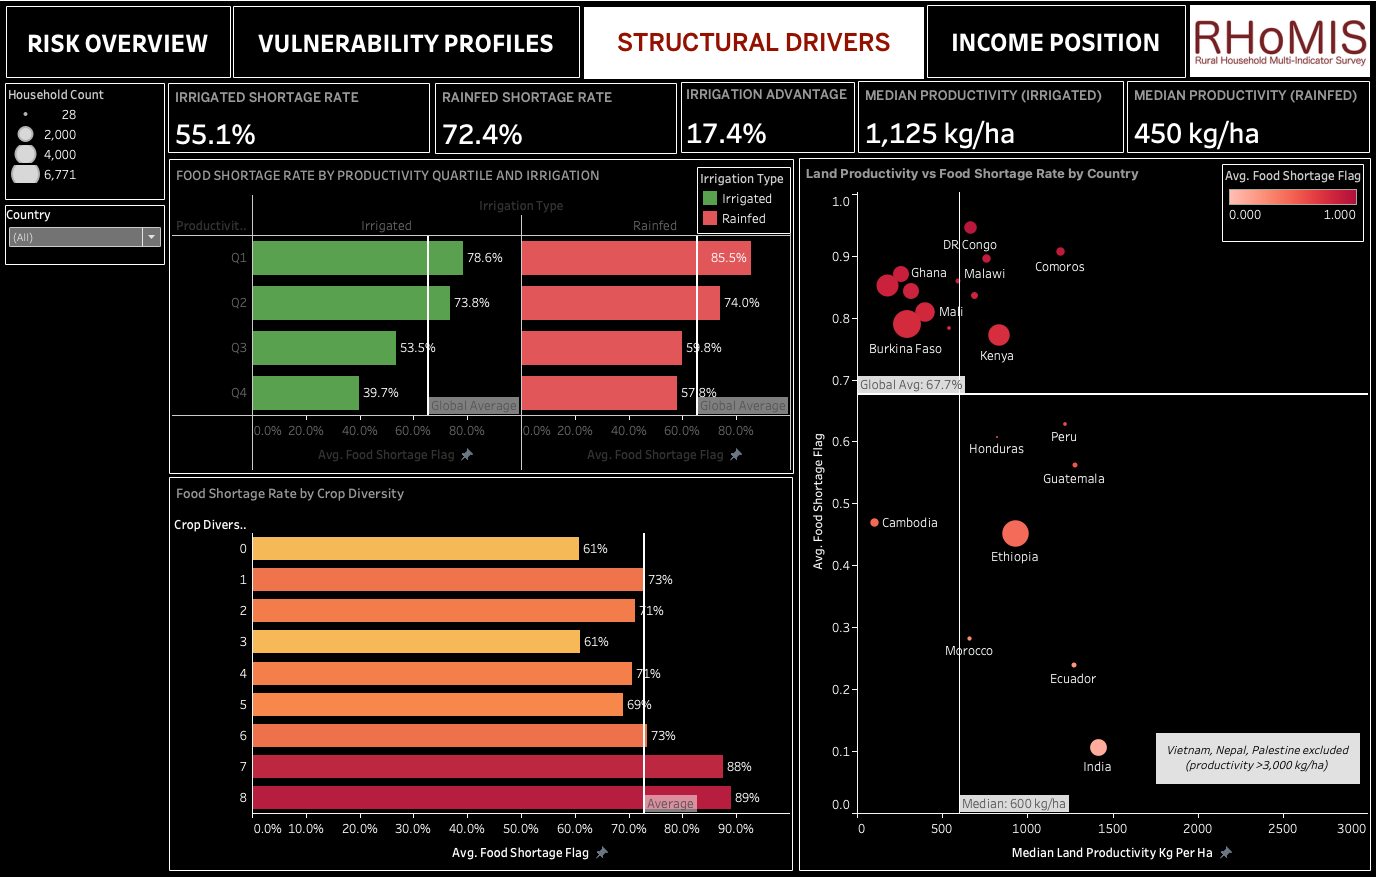

Layout of this report page (visuals, bound fields, positions):
{"tool":"tableau","page":{"name":"STRUCTURAL DRIVERS","canvas":[1400,900],"ordinal":2},"visuals":[{"type":"blank","box":[8,8,1384,884]},{"type":"dashboard-object","box":[939,16,259,73]},{"type":"image","param":"Image/rhomis-logo.png","box":[1202,16,182,72]},{"type":"dashboard-object","box":[18,17,225,72]},{"type":"dashboard-object","box":[245,17,347,72]},{"type":"text","box":[595,17,340,72]},{"type":"worksheet","title":"KPI3-MEDIAN PRODUCTIVITY (IRRIGATED)","mark":"Automatic","box":[870,92,266,72]},{"type":"worksheet","title":"KPI3-MEDIAN PRODUCTIVITY (RAINFED)","mark":"Automatic","box":[1139,92,243,72]},{"type":"worksheet","title":"KPI3-IRRIGATION ADVANTAGE","mark":"Automatic","box":[693,93,174,71]},{"type":"legend","title":"Land Productivity vs Food Shortage Rate by Country ","param":"[federated.18g2uha1kfgs62108f3sf1ksln33].[usr:Calculation_3682809765310495:qk]","box":[17,94,160,117]},{"type":"worksheet","title":"KPI3-IRRIGATED SHORTAGE RATE","mark":"Automatic","box":[180,94,262,70]},{"type":"worksheet","title":"KPI3-RAINFED SHORTAGE RATE","mark":"Automatic","box":[447,94,242,71]},{"type":"worksheet","title":"Land Productivity vs Food Shortage Rate by Country ","mark":"Circle","rows":["food_shortage_flag"],"cols":["land_productivity_kg_per_ha"],"box":[811,169,570,713]},{"type":"worksheet","title":"FOOD SHORTAGE RATE BY PRODUCTIVITY QUARTILE AND IRRIGATION","mark":"Automatic","rows":["productivity_quartile"],"cols":["Calculation_3682809762775070","food_shortage_flag"],"box":[181,170,625,315]},{"type":"legend","title":"Land Productivity vs Food Shortage Rate by Country ","param":"[federated.18g2uha1kfgs62108f3sf1ksln33].[avg:food_shortage_flag:qk]","box":[1234,175,142,78]},{"type":"legend","title":"FOOD SHORTAGE RATE BY PRODUCTIVITY QUARTILE AND IRRIGATION","param":"[federated.18g2uha1kfgs62108f3sf1ksln33].[none:Calculation_3682809762775070:nk]","box":[698,178,105,65]},{"type":"filter","title":"KPI3-IRRIGATED SHORTAGE RATE","param":"[federated.18g2uha1kfgs62108f3sf1ksln33].[none:country:nk]","box":[17,216,160,60]},{"type":"worksheet","title":"Food Shortage Rate by Crop Diversity","mark":"Bar","rows":["crop_diversity_count"],"cols":["food_shortage_flag"],"box":[181,488,624,394]}]}

Visuals, with their boxes in screenshot pixels (x1, y1, x2, y2), scaled from the page's 1400x900 canvas onto the 1376x878 screenshot:
blank: crop(8, 8, 1368, 870)
dashboard-object: crop(923, 16, 1177, 87)
image: crop(1181, 16, 1360, 86)
dashboard-object: crop(18, 17, 239, 87)
dashboard-object: crop(241, 17, 582, 87)
text: crop(585, 17, 919, 87)
"KPI3-MEDIAN PRODUCTIVITY (IRRIGATED)" worksheet: crop(855, 90, 1117, 160)
"KPI3-MEDIAN PRODUCTIVITY (RAINFED)" worksheet: crop(1119, 90, 1358, 160)
"KPI3-IRRIGATION ADVANTAGE" worksheet: crop(681, 91, 852, 160)
"Land Productivity vs Food Shortage Rate by Country " legend: crop(17, 92, 174, 206)
"KPI3-IRRIGATED SHORTAGE RATE" worksheet: crop(177, 92, 434, 160)
"KPI3-RAINFED SHORTAGE RATE" worksheet: crop(439, 92, 677, 161)
"Land Productivity vs Food Shortage Rate by Country " worksheet (Circle marks): crop(797, 165, 1357, 860)
"FOOD SHORTAGE RATE BY PRODUCTIVITY QUARTILE AND IRRIGATION" worksheet: crop(178, 166, 792, 473)
"Land Productivity vs Food Shortage Rate by Country " legend: crop(1213, 171, 1352, 247)
"FOOD SHORTAGE RATE BY PRODUCTIVITY QUARTILE AND IRRIGATION" legend: crop(686, 174, 789, 237)
"KPI3-IRRIGATED SHORTAGE RATE" filter: crop(17, 211, 174, 269)
"Food Shortage Rate by Crop Diversity" worksheet (Bar marks): crop(178, 476, 791, 860)
